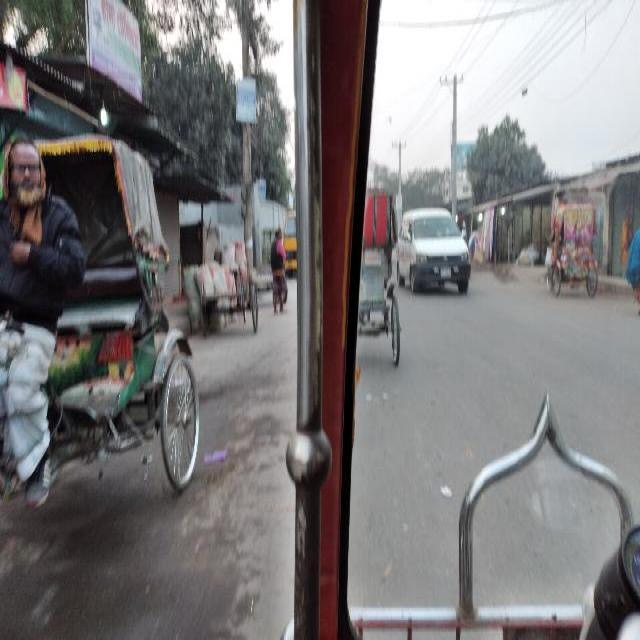vehicle: (1, 131, 203, 511), (363, 186, 405, 371), (398, 207, 474, 296), (544, 201, 603, 302), (282, 206, 301, 276)
